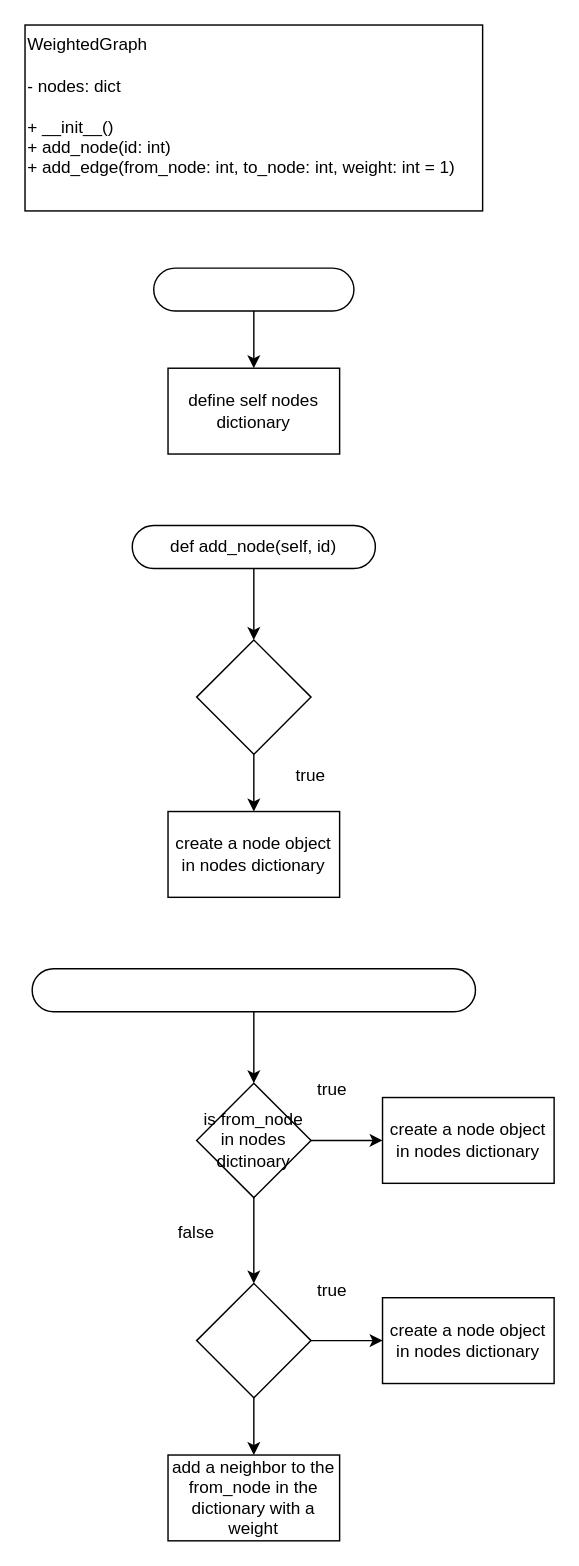
This 579x1566 diagram has some shape labels left out. The shapes that lost their labels are listed below. From the top down, each one's centre as x and y in pixels, then its label:
At [253,289]: "def __init__(self)".
At [253,696]: "is id not in the nodes instance".
At [253,989]: "def add_edge(self, from_node, to_node, weight=1)".
At [253,1340]: "is to_nodes in nodes dictinoary".
